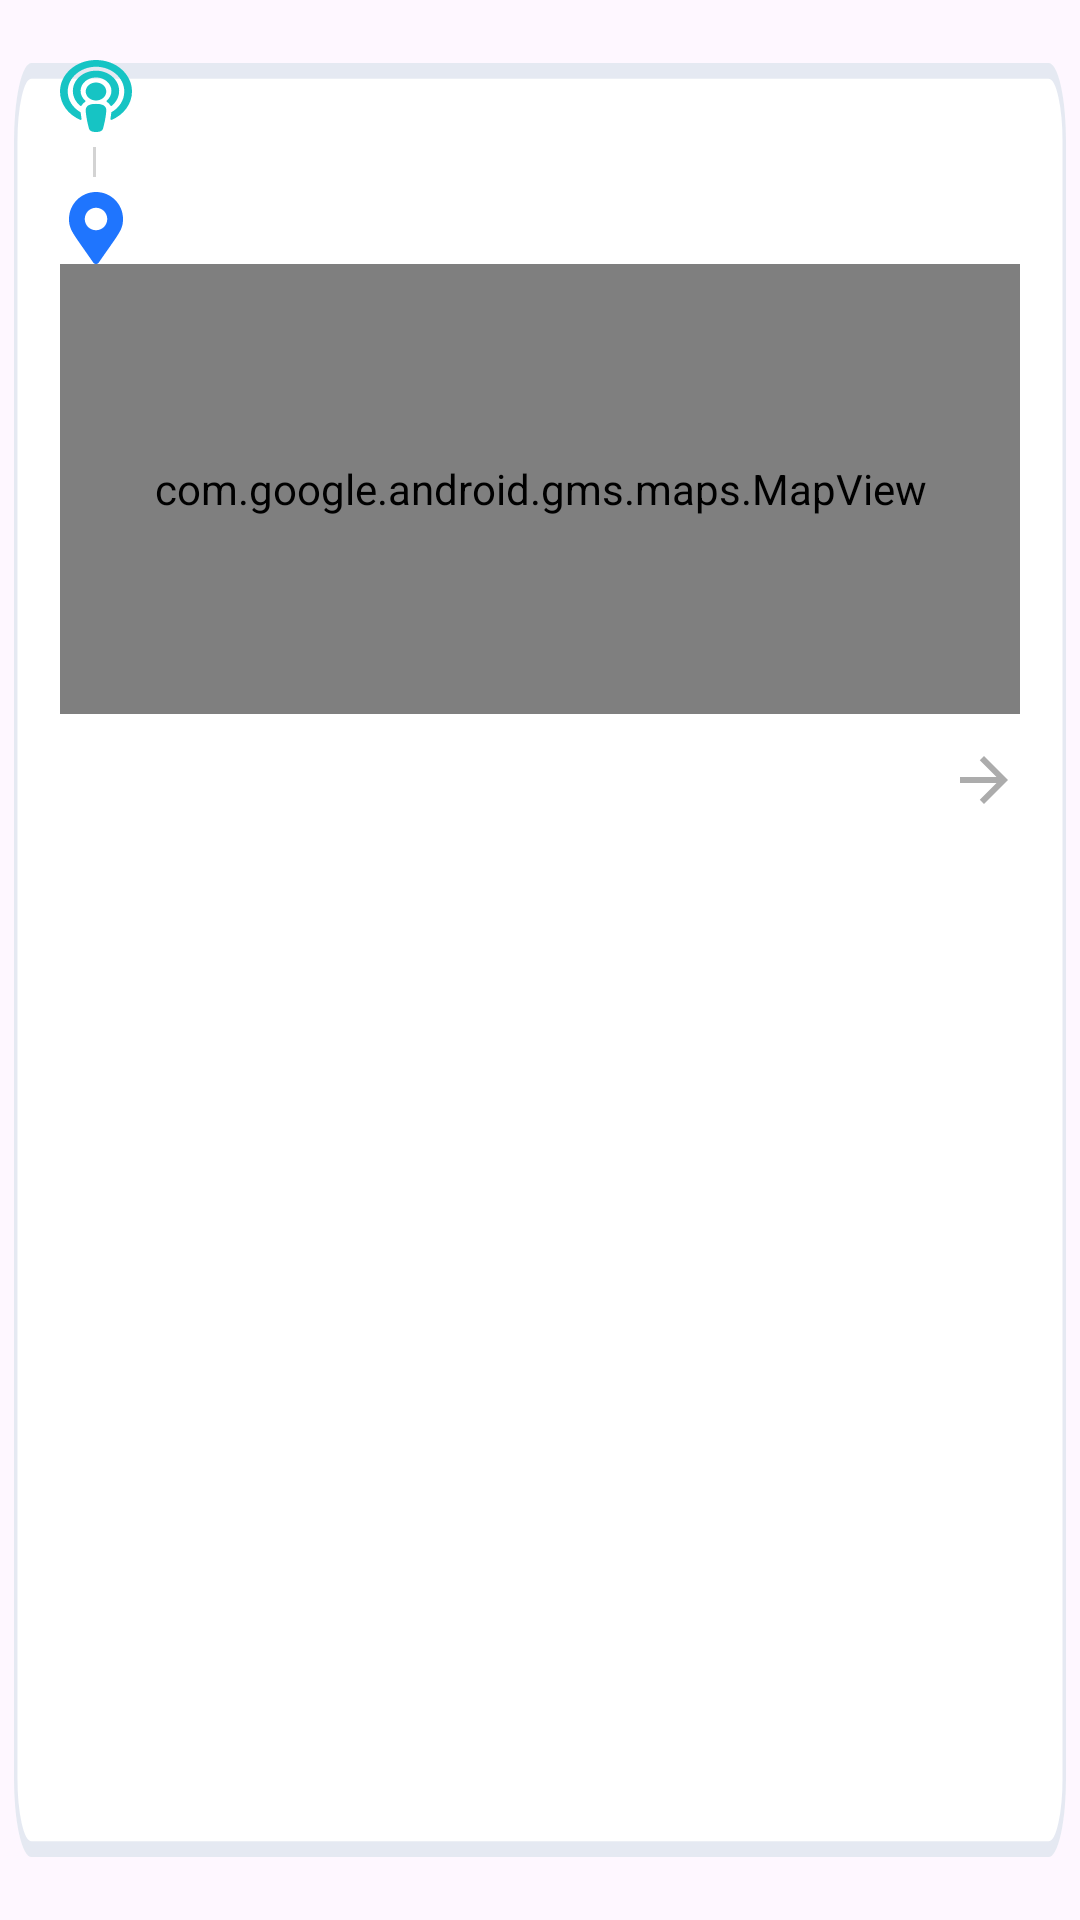

Screen size 1080×1920. Icon name, then its box in pixels as region(x1, y1, x2, y2):
arrow right: region(960, 756, 1008, 804)
destination: region(69, 192, 123, 264)
